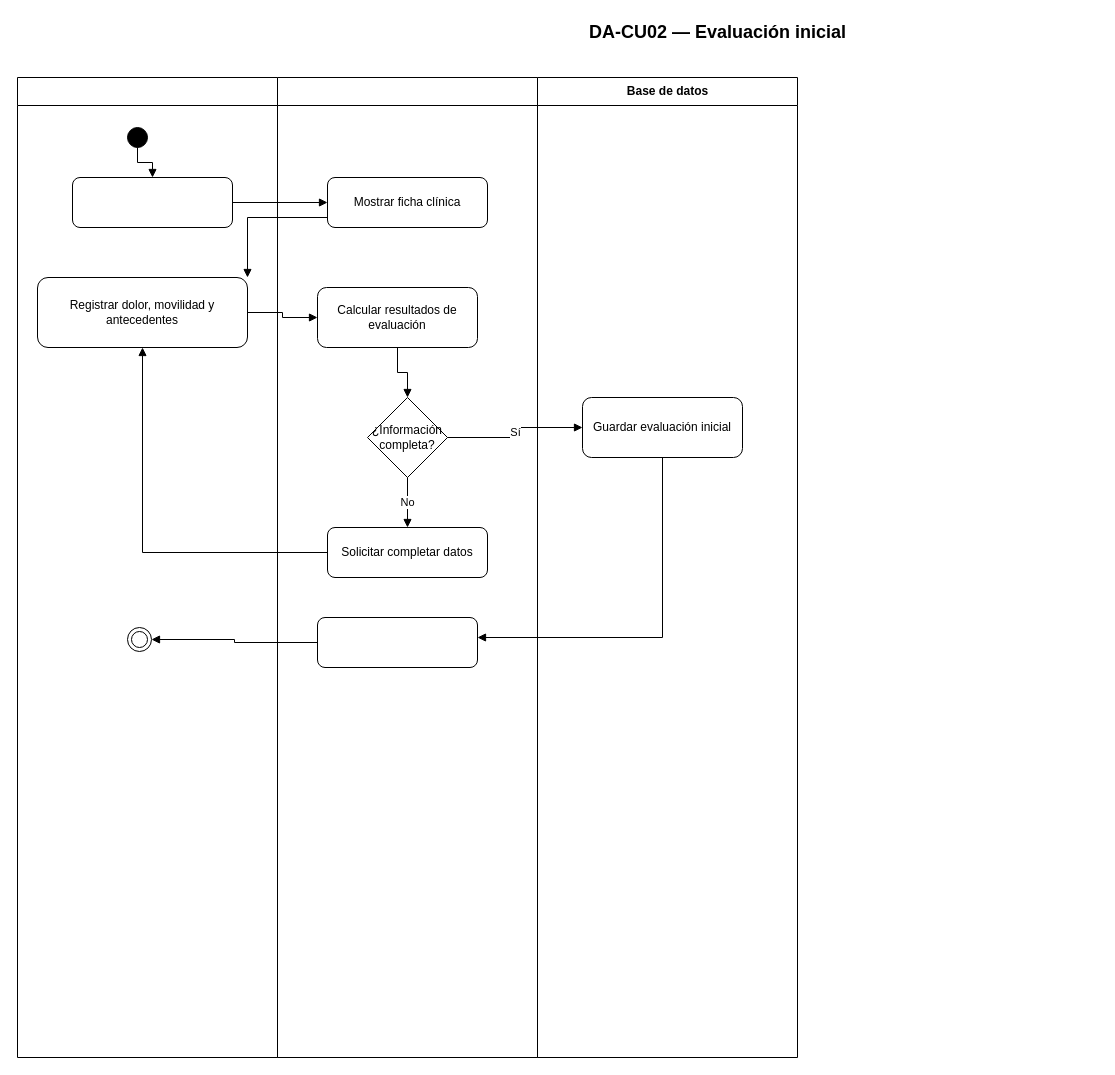
Some shapes in this 1115 by 1075 pixel diagram are drawn without their labels. The shapes that lost their labels are listed below. From the top down, each one's box as (x1, y1, x2, y2) in pixels, then its label:
(72, 176, 232, 228): Seleccionar paciente
(16, 76, 278, 1058): Fisioterapeuta
(276, 76, 538, 1058): Sistema
(316, 616, 478, 668): Mostrar resumen de evaluación
